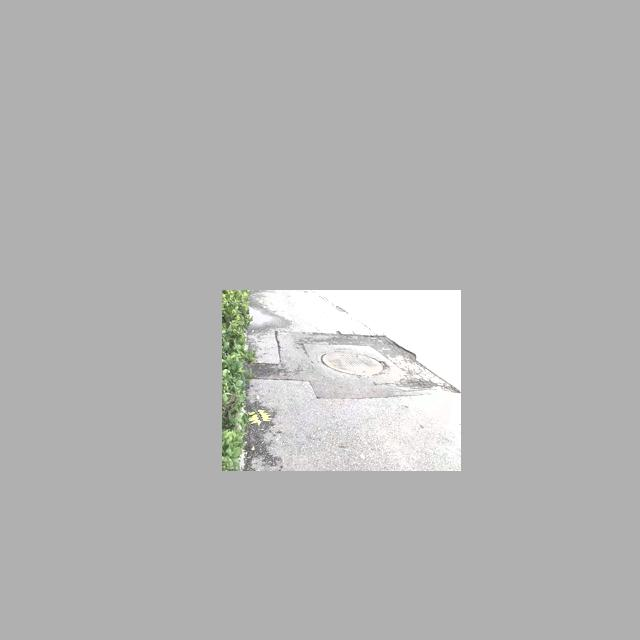circle: (281, 338, 432, 396)
